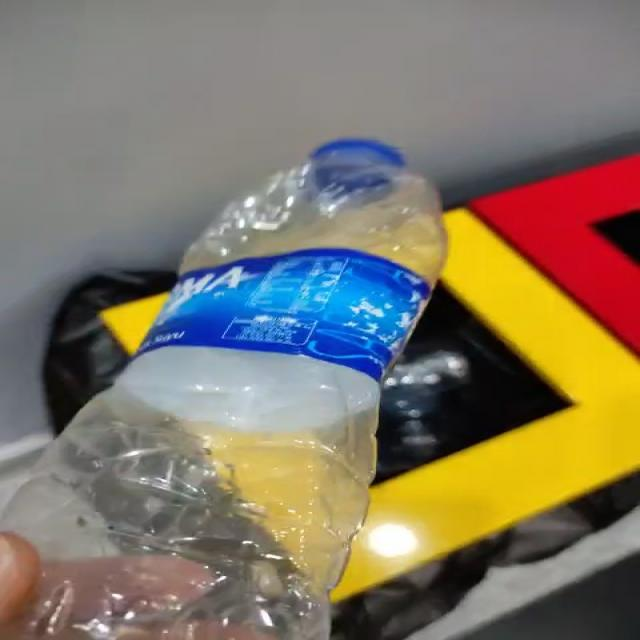plastic: (3, 140, 447, 640)
